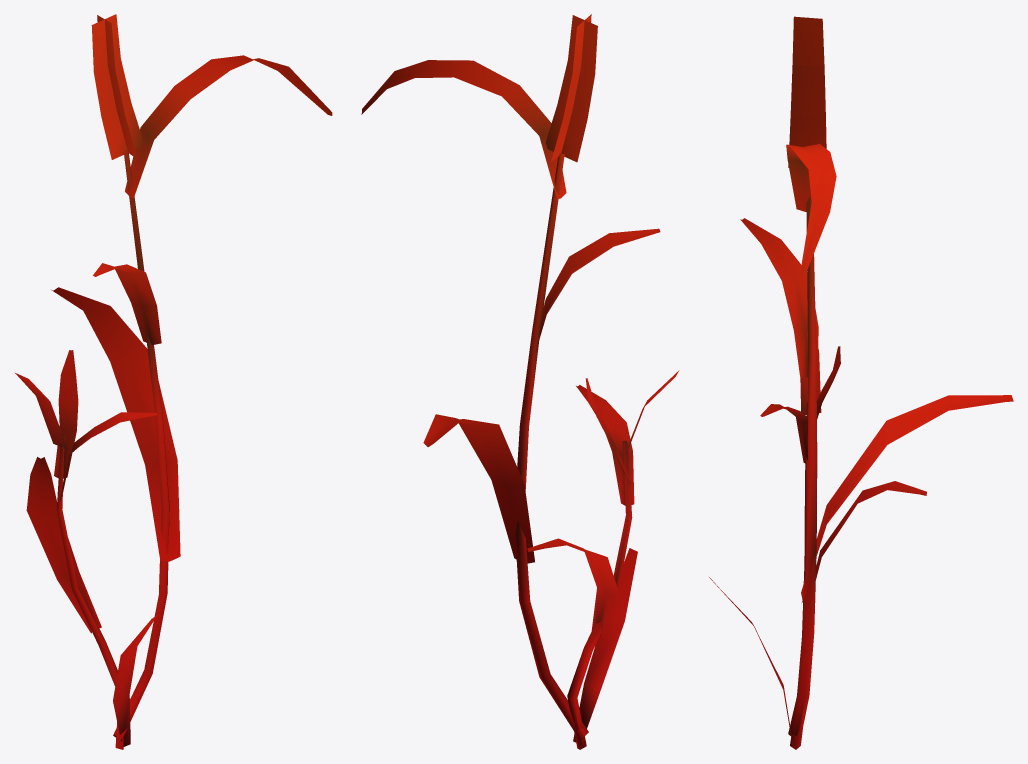
The model's file is SM_WheatPlants_6.fbx.
3 views of the same model, side by side, from view 1: azimuth 30°, elevation 25°; view 2: azimuth 150°, elevation 25°; view 3: azimuth 270°, elevation 25° (orthographic).
Visible parts, largest first — view 1: SM_WheatPlants_6; view 2: SM_WheatPlants_6; view 3: SM_WheatPlants_6.
Boxes of the visible parts, x1=… form: SM_WheatPlants_6: x1=15, y1=14, x2=332, y2=749; SM_WheatPlants_6: x1=361, y1=14, x2=679, y2=749; SM_WheatPlants_6: x1=709, y1=16, x2=1013, y2=749.
Size of the model in its own units: 0.5442 by 1.21 by 0.4599.
